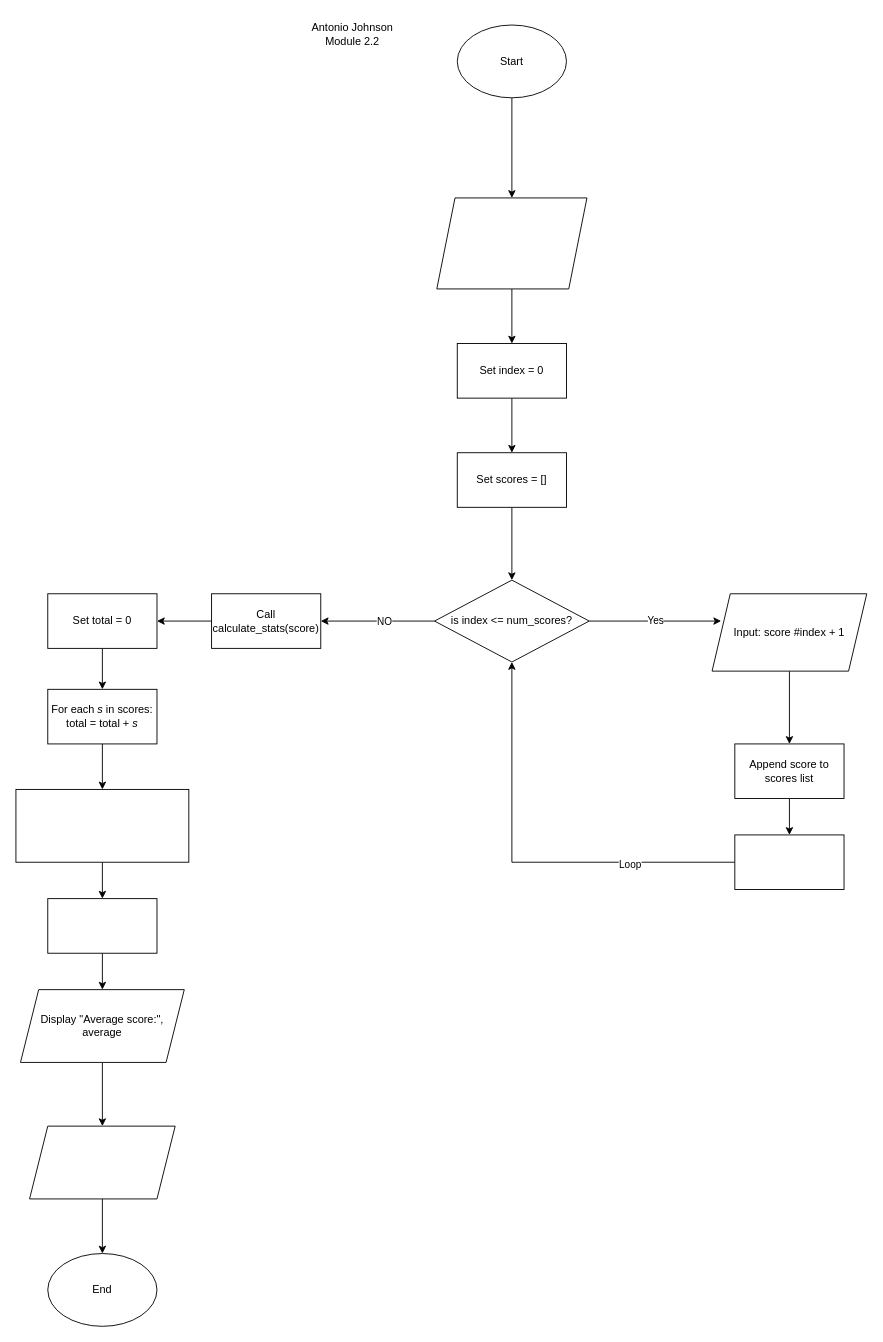
The diagram is 883 pixels wide and 1342 high, and some of its shapes have lost their labels. The shapes that lost their labels are listed below. From the top down, each one's box as (x1, y1, x2, y2) in pixels, then its label:
(436, 197, 587, 289): Print "Grade Calculator"
(15, 789, 189, 862): average = total / len(scores)
(734, 834, 844, 890): index = index + 1
(47, 898, 157, 953): highest = min(scores)
(29, 1125, 175, 1199): Display "Highest score:", highest
